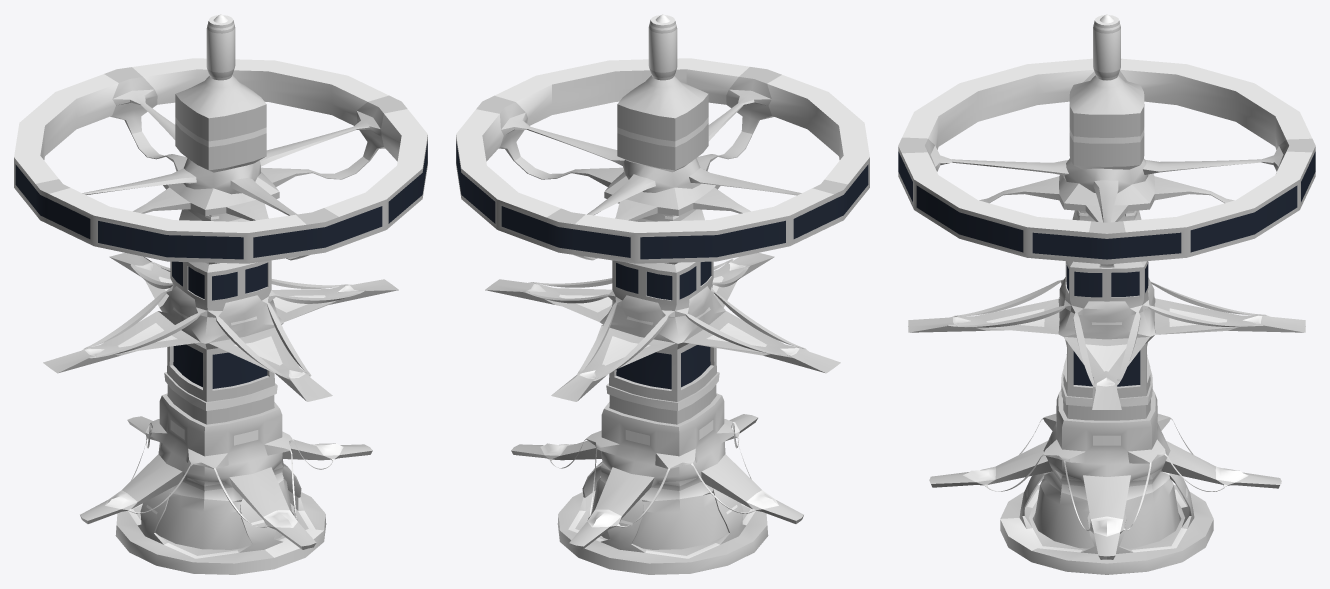
The picture shows the model from 3 angles, left to right: view 1: azimuth 30°, elevation 25°; view 2: azimuth 150°, elevation 25°; view 3: azimuth 270°, elevation 25°; orthographic projection.
Visible parts, largest first — view 1: CommunicationTower_2; view 2: CommunicationTower_2; view 3: CommunicationTower_2.
Part boxes in pixels (x1,y1,x2,y2): CommunicationTower_2: (14,14,427,574); CommunicationTower_2: (456,14,869,574); CommunicationTower_2: (898,14,1315,574).
Bounding box in the file's own units: 2.07 × 2.83 × 2.07.
Materials: 9 (1 with a texture image).
